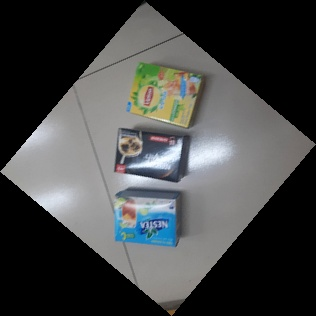CF Viet: (114, 127, 188, 183)
LipTon: (124, 61, 205, 128)
Nestea: (112, 189, 185, 249)
